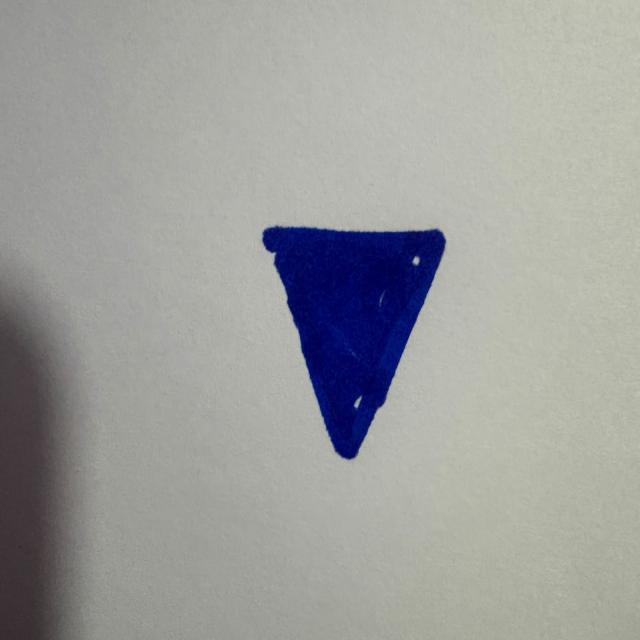Triangle: (262, 227, 445, 459)
